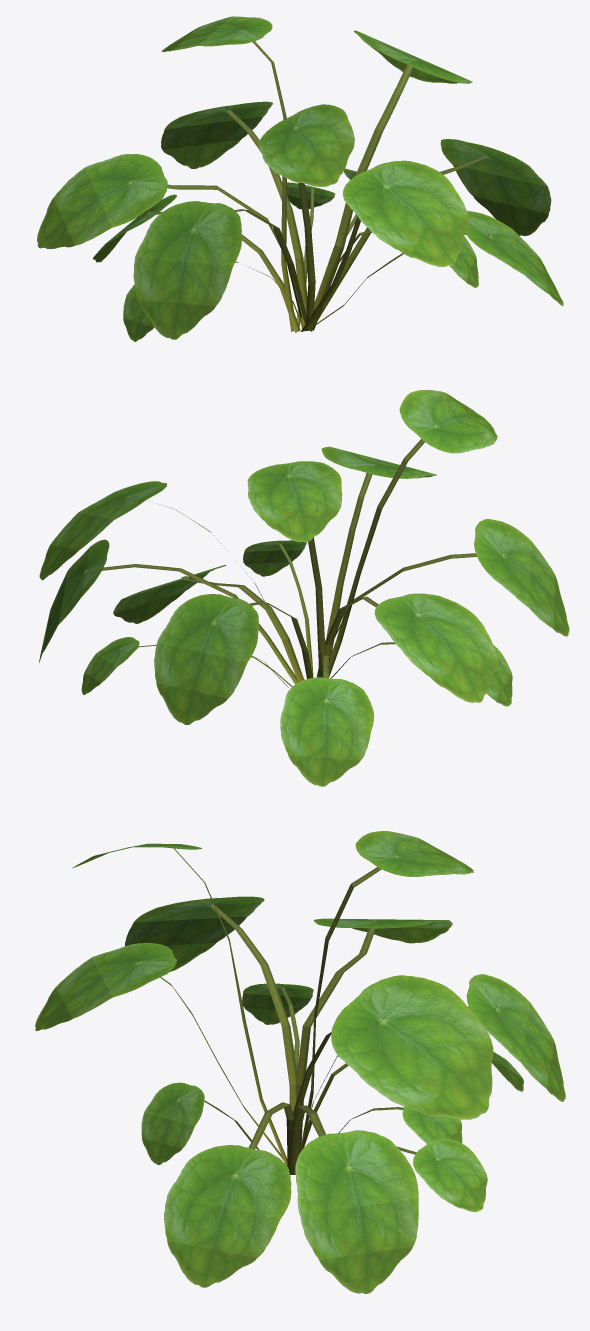
The model's file is Pilea3.fbx.
3 views of the same model, one above another, from view 1: azimuth 30°, elevation 25°; view 2: azimuth 150°, elevation 25°; view 3: azimuth 270°, elevation 25° (orthographic). The views are drawn at different scales.
Visible parts, largest first — view 1: Pilea.019; view 2: Pilea.019; view 3: Pilea.019.
Part boxes in pixels (box(x1,y1,x2,y2)): Pilea.019: box(37, 16, 563, 341); Pilea.019: box(39, 390, 569, 786); Pilea.019: box(35, 831, 565, 1293).
Size of the model in its own units: 230 by 122 by 195.
